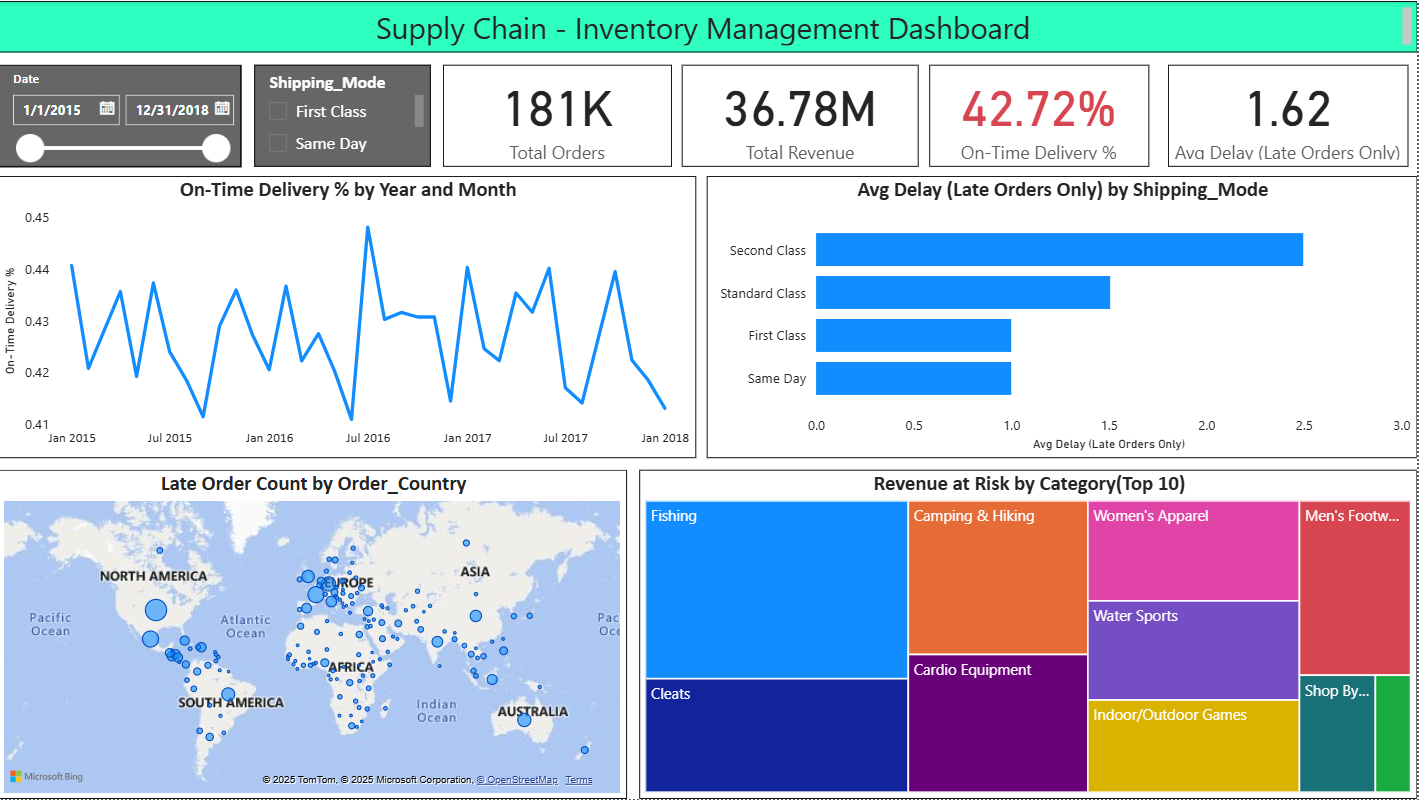

What the dashboard file says about the page in this screenshot:
{"tool":"powerbi","page":{"name":"Page 1","canvas":[1280,720],"ordinal":0},"visuals":[{"type":"card","fields":{"Values":["_Key Measures.Total Orders"]},"box":[401.1,57.5,206.7,91.7],"z":0},{"type":"card","fields":{"Values":["_Key Measures.Avg Delay (Late Orders Only)"]},"box":[1055.3,57.5,216.4,91.7],"z":1000},{"type":"card","fields":{"Values":["_Key Measures.On-Time Delivery %"]},"box":[840.1,57.5,198.1,91.7],"z":2000},{"type":"lineChart","fields":{"Y":["_Key Measures.On-Time Delivery %"],"Category":["Dim_Date.Date.Variation.Date Hierarchy.Year","Dim_Date.Date.Variation.Date Hierarchy.Month"]},"box":[0,157.7,629.8,254.3],"z":3000},{"type":"clusteredBarChart","fields":{"Category":["supplychain fact_sales.Shipping_Mode"],"Y":["_Key Measures.Avg Delay (Late Orders Only)"]},"box":[639.5,157.7,640.8,254.3],"z":4000},{"type":"map","fields":{"Size":["_Key Measures.Late Order Count"],"Category":["supplychain fact_sales.Order_Country"]},"box":[0,423.1,567.4,297.1],"z":5000},{"type":"treemap","title":"Revenue at Risk by Category(Top 10)","fields":{"Group":["supplychain dim_product.Category"],"Values":["_Key Measures.Revenue at Risk"]},"box":[578.4,423.1,701.9,297.1],"z":6000},{"type":"slicer","fields":{"Values":["Dim_Date.Date"]},"box":[0,57.5,218.9,91.7],"z":7000},{"type":"slicer","fields":{"Values":["supplychain fact_sales.Shipping_Mode"]},"box":[231.1,57.5,159,91.7],"z":8000},{"type":"card","fields":{"Values":["Sum(supplychain fact_sales.Revenue)"]},"box":[616.3,57.5,214,91.7],"z":9000},{"type":"textbox","box":[0,0,1280.3,46.5],"z":10000}]}

Visuals, with their boxes in screenshot pixels (x1, y1, x2, y2), scaled from the page's 1280x720 canvas onto the 1419x800 screenshot:
card - _Key Measures.Total Orders: rect(445, 64, 674, 166)
card - _Key Measures.Avg Delay (Late Orders Only): rect(1170, 64, 1410, 166)
card - _Key Measures.On-Time Delivery %: rect(931, 64, 1151, 166)
lineChart - _Key Measures.On-Time Delivery % x Dim_Date.Date.Variation.Date Hierarchy.Year: rect(0, 175, 698, 458)
clusteredBarChart - supplychain fact_sales.Shipping_Mode x _Key Measures.Avg Delay (Late Orders Only): rect(709, 175, 1418, 458)
map - _Key Measures.Late Order Count x supplychain fact_sales.Order_Country: rect(0, 470, 629, 799)
"Revenue at Risk by Category(Top 10)" treemap: rect(641, 470, 1418, 799)
slicer - Dim_Date.Date: rect(0, 64, 243, 166)
slicer - supplychain fact_sales.Shipping_Mode: rect(256, 64, 432, 166)
card - Sum(supplychain fact_sales.Revenue): rect(683, 64, 920, 166)
textbox: rect(0, 0, 1418, 52)
